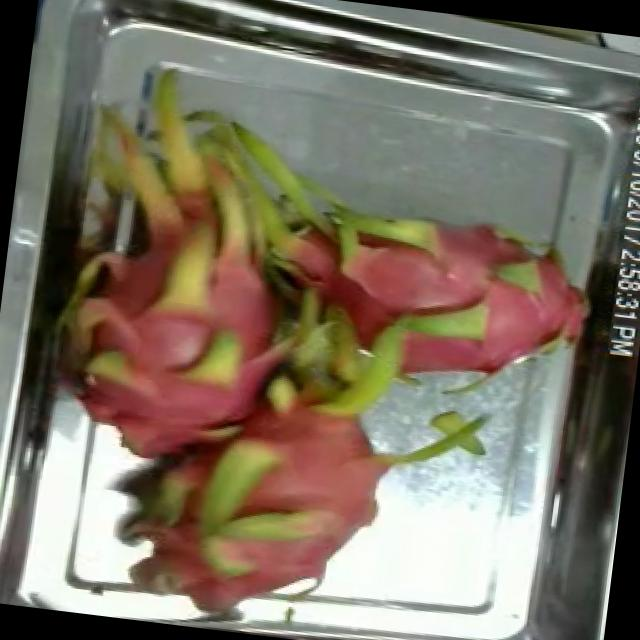Fruit: (251, 206, 360, 303)
